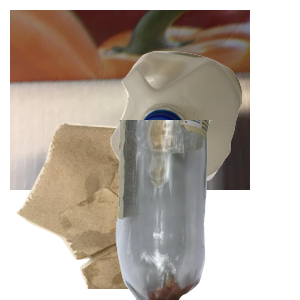cardboard: (10, 10, 250, 190)
glass: (113, 120, 300, 300)
plastic: (108, 49, 300, 226)
trash: (14, 120, 222, 300)
